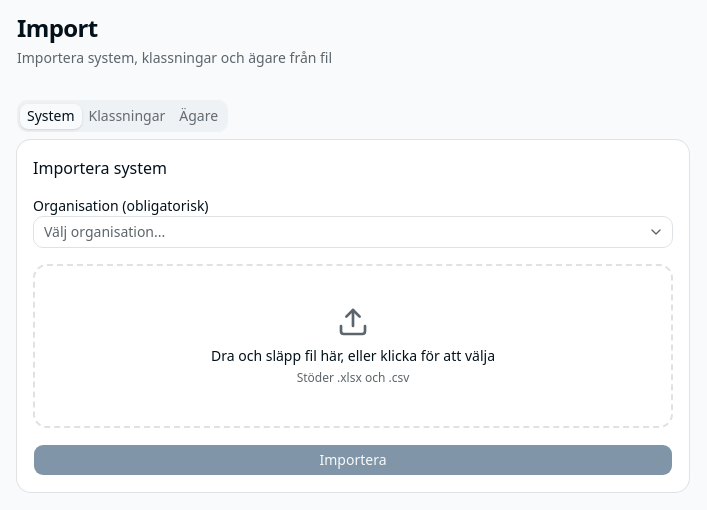
Test: ImportPage › Organisation-val (System-fliken) › dropdown innehåller organisationer
This screenshot has width=707, height=510.
Click the text "Välj organisation...". click: (105, 232)
box: [44,222,165,241]
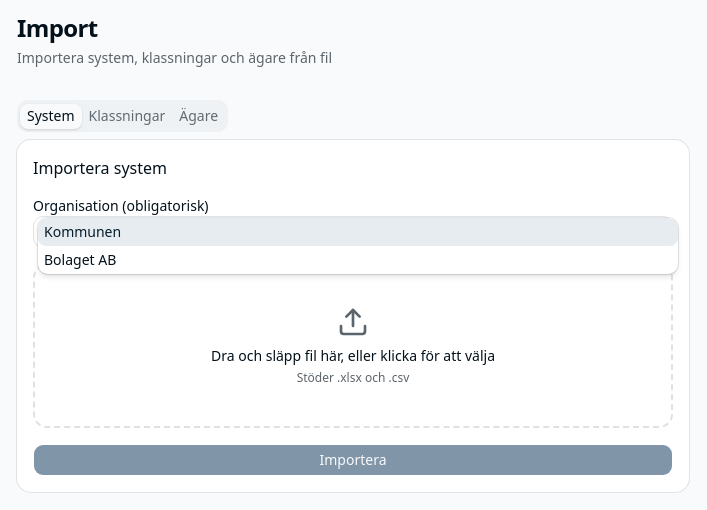
Now the option "Kommunen" is shown, box [38,218,678,246]
Now the option "Bolaget AB" is shown, box [44,250,116,269]
